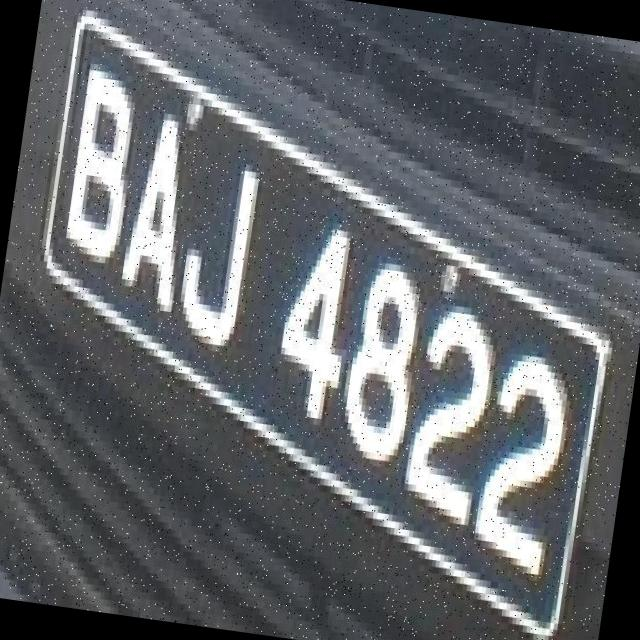LicensePlate: (7, 14, 635, 640)
